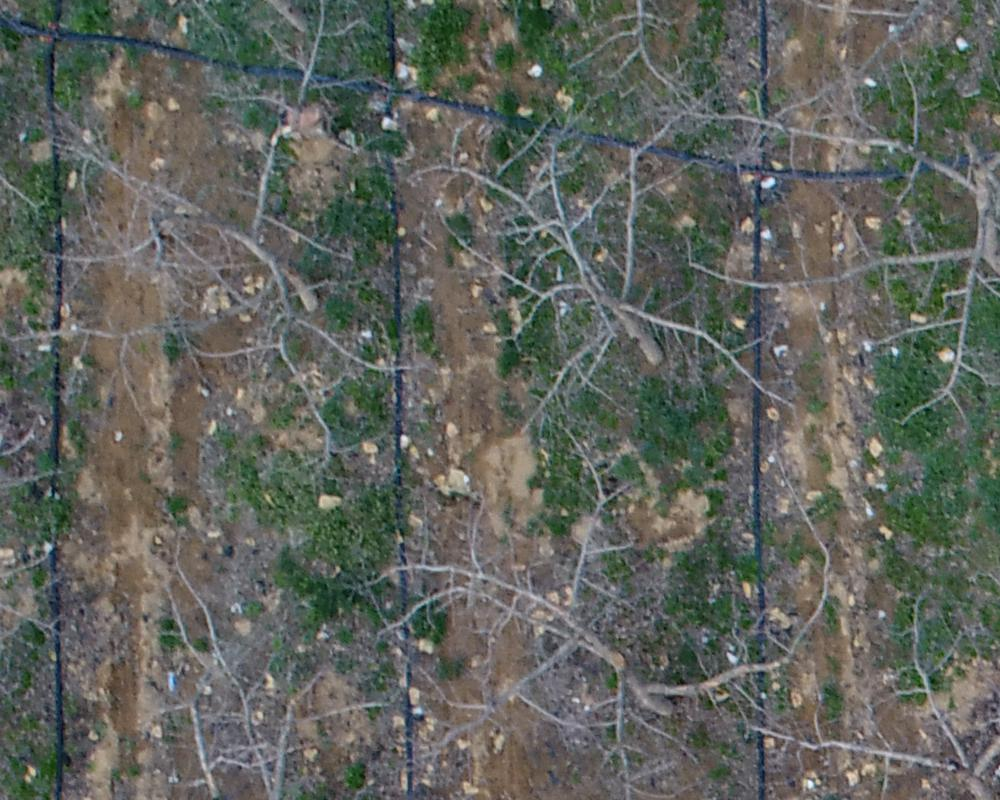apple: (23, 10, 428, 470), (346, 429, 840, 790), (397, 90, 811, 460), (675, 26, 990, 469), (101, 537, 481, 790), (729, 569, 990, 790)
